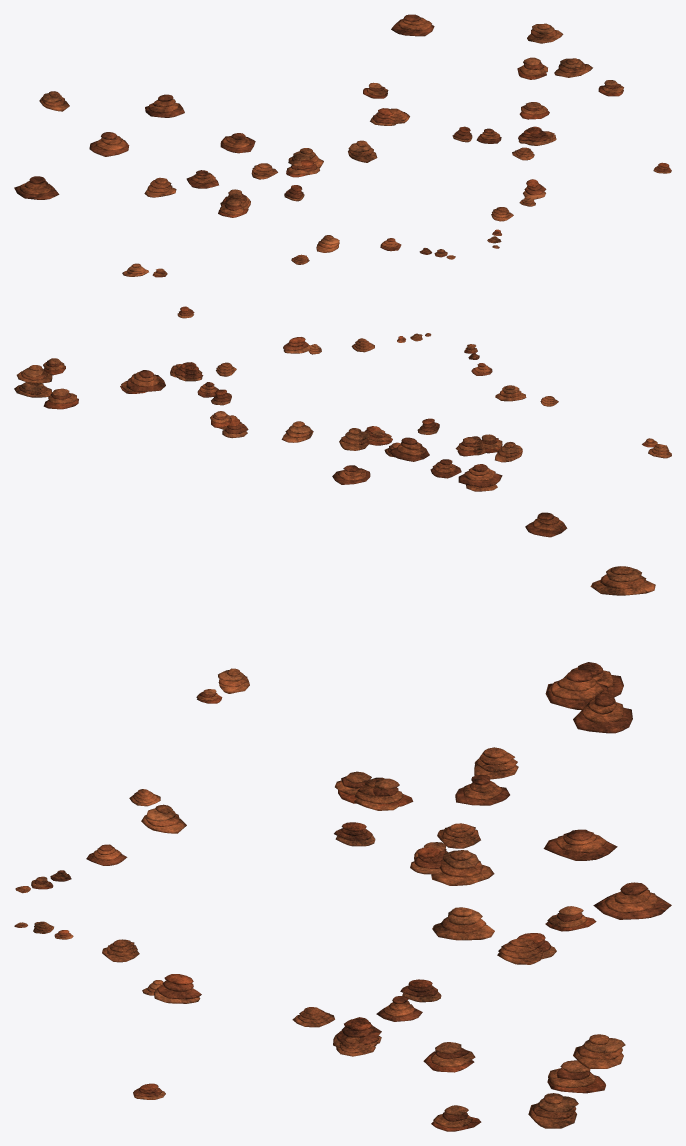
Rendered from mars_ledges.glb.
The picture shows the model from 3 angles, top to bottom: view 1: azimuth 30°, elevation 25°; view 2: azimuth 150°, elevation 25°; view 3: azimuth 270°, elevation 25°; orthographic projection. The views are drawn at different scales.
Visible parts, largest first — view 1: MarsLedges; view 2: MarsLedges; view 3: MarsLedges.
Boxes of the visible parts, x1=… form: MarsLedges: x1=14, y1=14, x2=671, y2=277; MarsLedges: x1=14, y1=306, x2=671, y2=537; MarsLedges: x1=14, y1=566, x2=671, y2=1131.
Size of the model in its own units: 344 by 53.13 by 208.
Materials: 1 (1 with a texture image).
